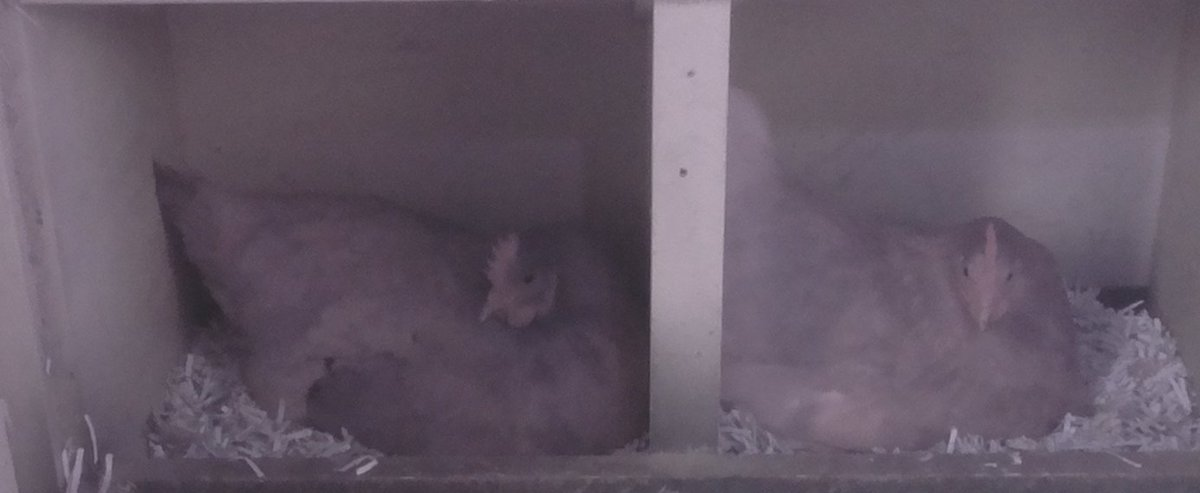hen: (161, 179, 646, 458), (729, 121, 1094, 455)
